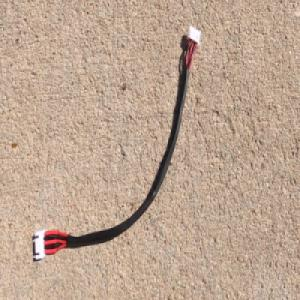Wire: (32, 21, 202, 262)
